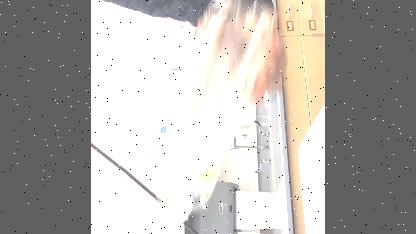Plastic Bottle: (156, 0, 280, 227)
